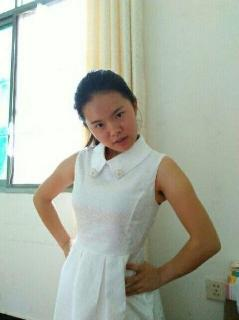vest: (53, 135, 167, 319)
